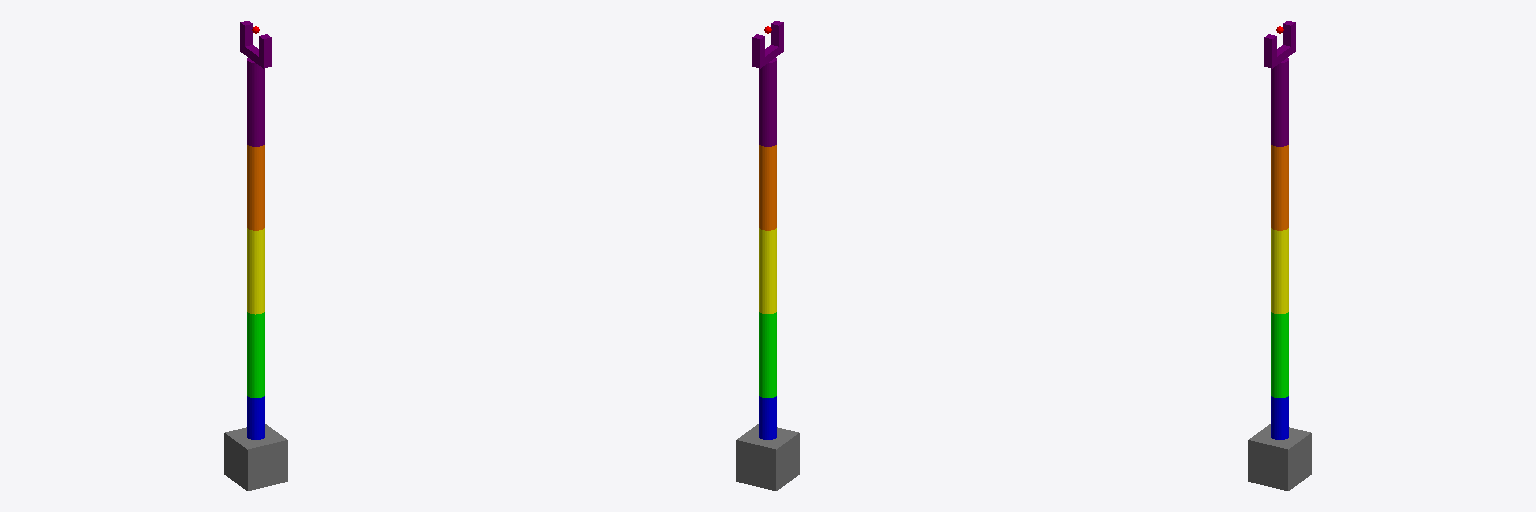
URDF robot description (six_dof_manipulator_with_gripper):
<?xml version="1.0"?>
<robot name="six_dof_manipulator_with_gripper">

  <!-- Base Link -->
  <link name="base_link">
    <visual>
      <origin xyz="0 0 0" rpy="0 0 0"/>
      <geometry>
        <box size="0.25 0.25 0.25"/>
      </geometry>
      <material name="gray">
        <color rgba="0.5 0.5 0.5 1"/>
      </material>
    </visual>
  </link>

  <!-- Joint 1 -->
  <joint name="joint1" type="revolute">
    <parent link="base_link"/>
    <child link="link1"/>
    <origin xyz="0 0 0.125" rpy="0 0 0"/>
    <axis xyz="0 0 1"/>
    <limit lower="-3.14" upper="3.14" effort="10" velocity="1"/>
  </joint>

  <!-- Link 1 -->
  <link name="link1">
    <visual>
      <origin xyz="0 0 0.125" rpy="0 0 0"/>
      <geometry>
        <cylinder length="0.25" radius="0.05"/>
      </geometry>
      <material name="blue">
        <color rgba="0 0 1 1"/>
      </material>
    </visual>
    <collision>
      <origin xyz="0 0 0.125" rpy="0 0 0"/>
      <geometry>
        <cylinder length="0.25" radius="0.05"/>
      </geometry>
    </collision>
  </link>

  <!-- Joint 2 -->
  <joint name="joint2" type="revolute">
    <parent link="link1"/>
    <child link="link2"/>
    <origin xyz="0 0 0.25" rpy="0 0 0"/>
    <axis xyz="0 1 0"/>
    <limit lower="-3.14" upper="3.14" effort="10" velocity="1"/>
  </joint>

  <!-- Link 2 -->
  <link name="link2">
    <visual>
      <origin xyz="0 0 0.25" rpy="0 0 0"/>
      <geometry>
        <cylinder length="0.5" radius="0.05"/>
      </geometry>
      <material name="green">
        <color rgba="0 1 0 1"/>
      </material>
    </visual>
    <collision>
      <origin xyz="0 0 0.25" rpy="0 0 0"/>
      <geometry>
        <cylinder length="0.5" radius="0.05"/>
      </geometry>
    </collision>
  </link>

  <!-- Joint 3 -->
  <joint name="joint3" type="revolute">
    <parent link="link2"/>
    <child link="link3"/>
    <origin xyz="0 0 0.5" rpy="0 0 0"/>
    <axis xyz="0 1 0"/>
    <limit lower="-3.14" upper="3.14" effort="10" velocity="1"/>
  </joint>

  <!-- Link 3 -->
  <link name="link3">
    <visual>
      <origin xyz="0 0 0.25" rpy="0 0 0"/>
      <geometry>
        <cylinder length="0.5" radius="0.05"/>
      </geometry>
      <material name="yellow">
        <color rgba="1 1 0 1"/>
      </material>
    </visual>
    <collision>
      <origin xyz="0 0 0.25" rpy="0 0 0"/>
      <geometry>
        <cylinder length="0.5" radius="0.05"/>
      </geometry>
    </collision>
  </link>

  <!-- Joint 4 -->
  <joint name="joint4" type="revolute">
    <parent link="link3"/>
    <child link="link4"/>
    <origin xyz="0 0 0.5" rpy="0 0 0"/>
    <axis xyz="1 0 0"/>
    <limit lower="-3.14" upper="3.14" effort="10" velocity="1"/>
  </joint>

  <!-- Link 4 -->
  <link name="link4">
    <visual>
      <origin xyz="0 0 0.25" rpy="0 0 0"/>
      <geometry>
        <cylinder length="0.5" radius="0.05"/>
      </geometry>
      <material name="orange">
        <color rgba="1 0.5 0 1"/>
      </material>
    </visual>
    <collision>
      <origin xyz="0 0 0.25" rpy="0 0 0"/>
      <geometry>
        <cylinder length="0.5" radius="0.05"/>
      </geometry>
    </collision>
  </link>

  <!-- Joint 5 -->
  <joint name="joint5" type="revolute">
    <parent link="link4"/>
    <child link="link5"/>
    <origin xyz="0 0 0.5" rpy="0 0 0"/>
    <axis xyz="0 1 0"/>
    <limit lower="-3.14" upper="3.14" effort="10" velocity="1"/>
  </joint>

  <!-- Link 5 -->
  <link name="link5">
    <visual>
      <origin xyz="0 0 0.25" rpy="0 0 0"/>
      <geometry>
        <cylinder length="0.5" radius="0.05"/>
      </geometry>
      <material name="purple">
        <color rgba="0.5 0 0.5 1"/>
      </material>
    </visual>
    <collision>
      <origin xyz="0 0 0.25" rpy="0 0 0"/>
      <geometry>
        <cylinder length="0.5" radius="0.05"/>
      </geometry>
    </collision>
  </link>

  <!-- Joint 6 -->
  <joint name="joint6" type="revolute">
    <parent link="link5"/>
    <child link="wrist"/>
    <origin xyz="0 0 0.525" rpy="0 0 1.57"/>
    <axis xyz="0 0 1"/>
    <limit lower="-3.14" upper="3.14" effort="10" velocity="1"/>
  </joint>

  <!-- Wrist Link -->
  <link name="wrist">
    <visual>
      <origin xyz="0 0 0" rpy="0 0 0"/>
      <geometry>
        <box size="0.25 0.05 0.05"/>
      </geometry>
      <material name="purple">
        <color rgba="0.5 0 0.5 1"/>
      </material>
    </visual>
    <collision>
      <origin xyz="0 0 0" rpy="0 0 0"/>
      <geometry>
        <box size="0.25 0.05 0.05"/>
      </geometry>
    </collision>
  </link>

  <!-- Joint 7 -->
  <joint name="joint7" type="fixed">
    <parent link="wrist"/>
    <child link="left_finger"/>
    <origin xyz="-0.1 0 0.075" rpy="0 0 0"/>
  </joint>

  <!-- Left Finger Link -->
  <link name="left_finger">
    <visual>
      <origin xyz="0 0 0" rpy="0 0 0"/>
      <geometry>
        <box size="0.05 0.05 0.15"/>
      </geometry>
      <material name="purple">
        <color rgba="0.5 0 0.5 1"/>
      </material>
    </visual>
    <collision>
      <origin xyz="0 0 0" rpy="0 0 0"/>
      <geometry>
        <box size="0.05 0.05 0.15"/>
      </geometry>
    </collision>
  </link>

  <!-- Joint 8 -->
  <joint name="joint8" type="fixed">
    <parent link="wrist"/>
    <child link="right_finger"/>
    <origin xyz="0.1 0 0.075" rpy="0 0 0"/>
  </joint>

  <!-- Right Finger Link -->
  <link name="right_finger">
    <visual>
      <origin xyz="0 0 0" rpy="0 0 0"/>
      <geometry>
        <box size="0.05 0.05 0.15"/>
      </geometry>
      <material name="purple">
        <color rgba="0.5 0 0.5 1"/>
      </material>
    </visual>
    <collision>
      <origin xyz="0 0 0" rpy="0 0 0"/>
      <geometry>
        <box size="0.05 0.05 0.15"/>
      </geometry>
    </collision>
  </link>

  <!-- Center of gripper -->
  <link name="gripper_center">
    <visual>
      <origin xyz="0 0 0.0" rpy="0 0 0"/>
      <geometry>
        <sphere radius="0.02"/> 
      </geometry>
      <material name="red">
        <color rgba="1 0 0 1"/>
      </material>
    </visual>
  </link>

  <!-- Joint 9 -->
  <joint name="joint9" type="fixed">
    <parent link="wrist"/>
    <child link="gripper_center"/>
    <origin xyz="0 0 0.15" rpy="0 0 0"/>
  </joint>  

</robot>

--- Render facts (derived) ---
The picture shows the robot from 3 angles, left to right: view 1: azimuth 30°, elevation 25°; view 2: azimuth 150°, elevation 25°; view 3: azimuth 330°, elevation 25°; orthographic projection.
Model six_dof_manipulator_with_gripper with 10 links and 9 joints (6 revolute, 3 fixed), rooted at base_link, posed every joint at zero.
Visible links, largest first — view 1: base_link, link2, link4, link3, link5, link1; view 2: base_link, link2, link4, link3, link5, link1; view 3: base_link, link2, link4, link3, link5, link1.
Boxes of the visible links, <box> form: base_link: <box>224,424,287,490</box>; link2: <box>247,312,264,397</box>; link4: <box>247,145,264,230</box>; link3: <box>247,228,264,314</box>; link5: <box>247,58,264,146</box>; link1: <box>247,396,264,439</box>; base_link: <box>736,424,799,490</box>; link2: <box>759,312,776,397</box>; link4: <box>759,145,776,230</box>; link3: <box>759,228,776,313</box>; link5: <box>759,58,776,146</box>; link1: <box>759,396,776,439</box>; base_link: <box>1248,424,1311,490</box>; link2: <box>1271,312,1288,397</box>; link4: <box>1271,145,1288,230</box>; link3: <box>1271,228,1288,313</box>; link5: <box>1271,58,1288,146</box>; link1: <box>1271,396,1288,439</box>.
Size in the robot's own frame: 0.25 by 0.25 by 2.69 metres.
Geometry: primitives only (box / cylinder / sphere), no mesh files.